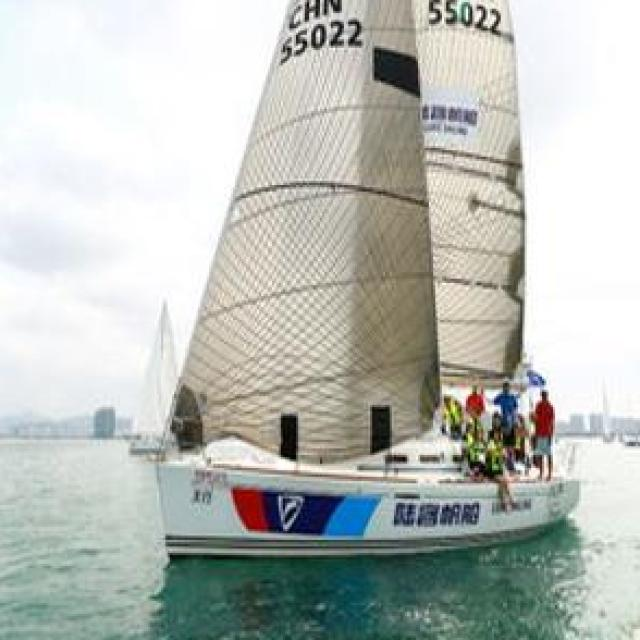sailboat: (142, 1, 595, 554)
